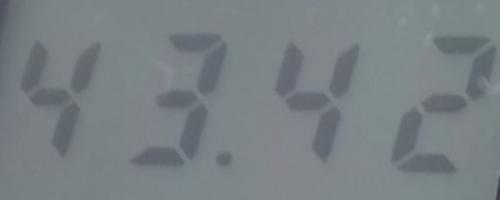.: (211, 147, 238, 173)
